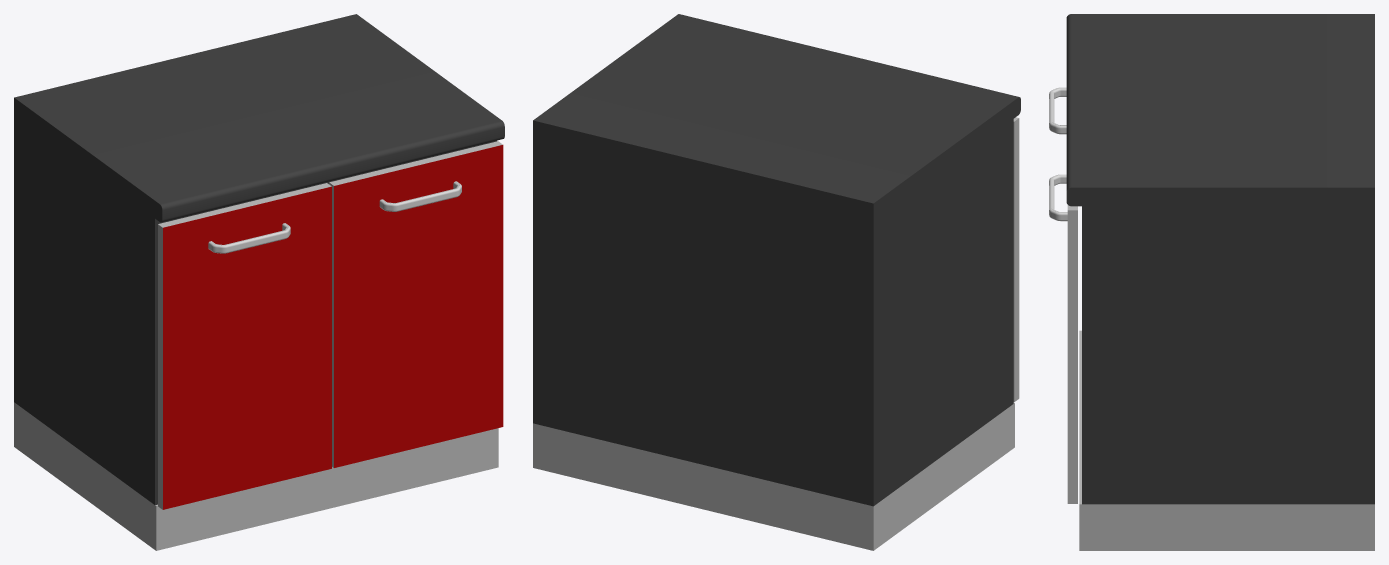
File: doppio.obj
The picture shows the model from 3 angles, left to right: view 1: azimuth 30°, elevation 25°; view 2: azimuth 150°, elevation 25°; view 3: azimuth 270°, elevation 25°; orthographic projection. The views are drawn at different scales.
Visible parts, largest first — view 1: Line67_10, Box532_7, Box522_4, Rectangle17_11, Box54_9, Box523_5, Box52_3, Box53_6, Loft16_1, Loft17_2; view 2: Rectangle17_11, Line67_10, Box54_9, Box523_5; view 3: Rectangle17_11, Line67_10, Box54_9, Box533_8, Loft17_2, Loft16_1.
Boxes of the visible parts, x1,y1,x2,y2 form: Line67_10: (14, 14, 504, 222); Box532_7: (334, 145, 503, 467); Box522_4: (163, 186, 331, 509); Rectangle17_11: (14, 115, 496, 505); Box54_9: (14, 402, 498, 550); Box523_5: (158, 224, 162, 509); Box52_3: (158, 183, 331, 227); Box53_6: (329, 141, 502, 185); Loft16_1: (208, 223, 290, 253); Loft17_2: (379, 181, 461, 211); Rectangle17_11: (533, 119, 1013, 506); Line67_10: (533, 14, 1020, 221); Box54_9: (533, 403, 1014, 550); Box523_5: (1013, 118, 1019, 402); Rectangle17_11: (1082, 206, 1374, 504); Line67_10: (1066, 14, 1374, 206); Box54_9: (1079, 330, 1374, 550); Box533_8: (1067, 210, 1077, 503); Loft17_2: (1049, 174, 1067, 221); Loft16_1: (1049, 87, 1066, 134).
Size of the model in its own units: 80 by 78 by 63.38.
